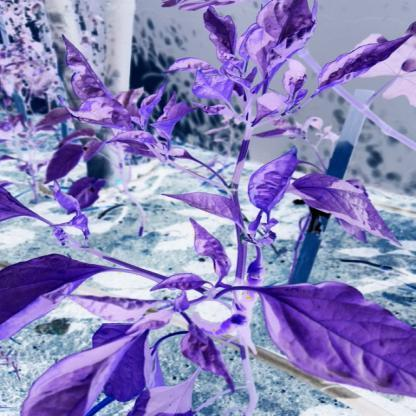Bell_pepper leaf spot: (257, 280, 416, 393), (2, 252, 138, 340)
